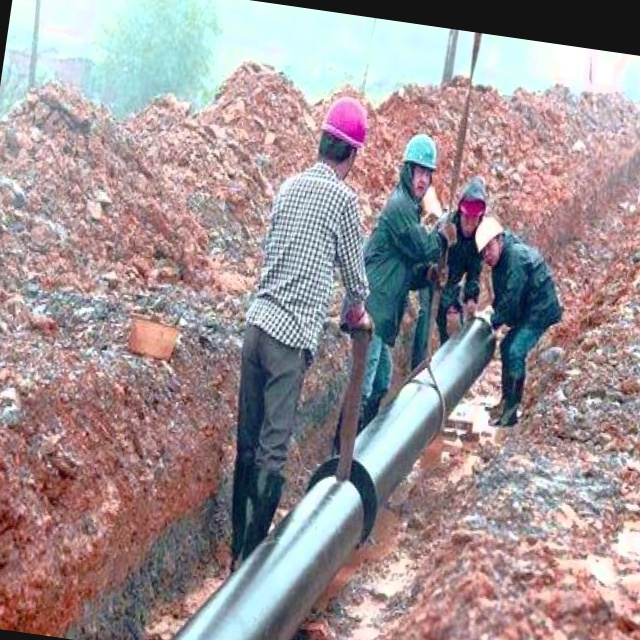Con_Casco: (316, 92, 371, 175), (398, 130, 441, 196)
